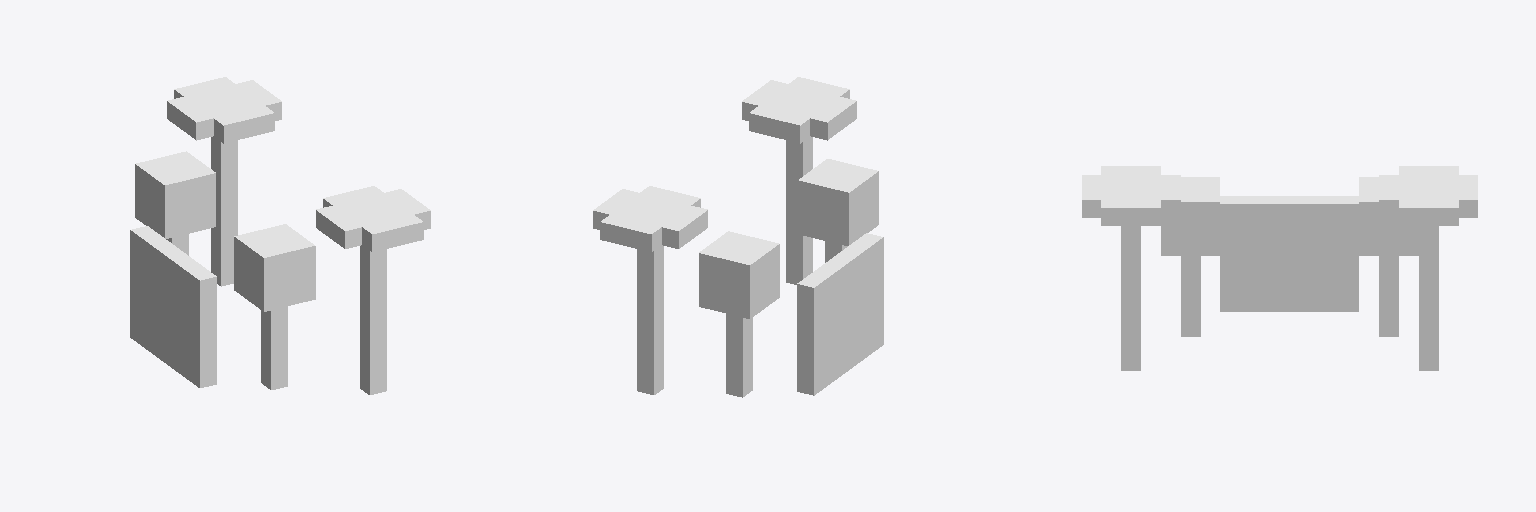
File: DrumSet.obj
3 views of the same model, side by side, from view 1: azimuth 30°, elevation 25°; view 2: azimuth 150°, elevation 25°; view 3: azimuth 270°, elevation 25° (orthographic).
Parts seen in each view (by area): view 1: object 1; view 2: object 1; view 3: object 1.
Part boxes in pixels (left/top/right/bottom): object 1: left=130, top=77, right=430, bottom=394; object 1: left=593, top=77, right=883, bottom=397; object 1: left=1082, top=166, right=1477, bottom=370.
Bounding box in the file's own units: 1 × 1 × 2.